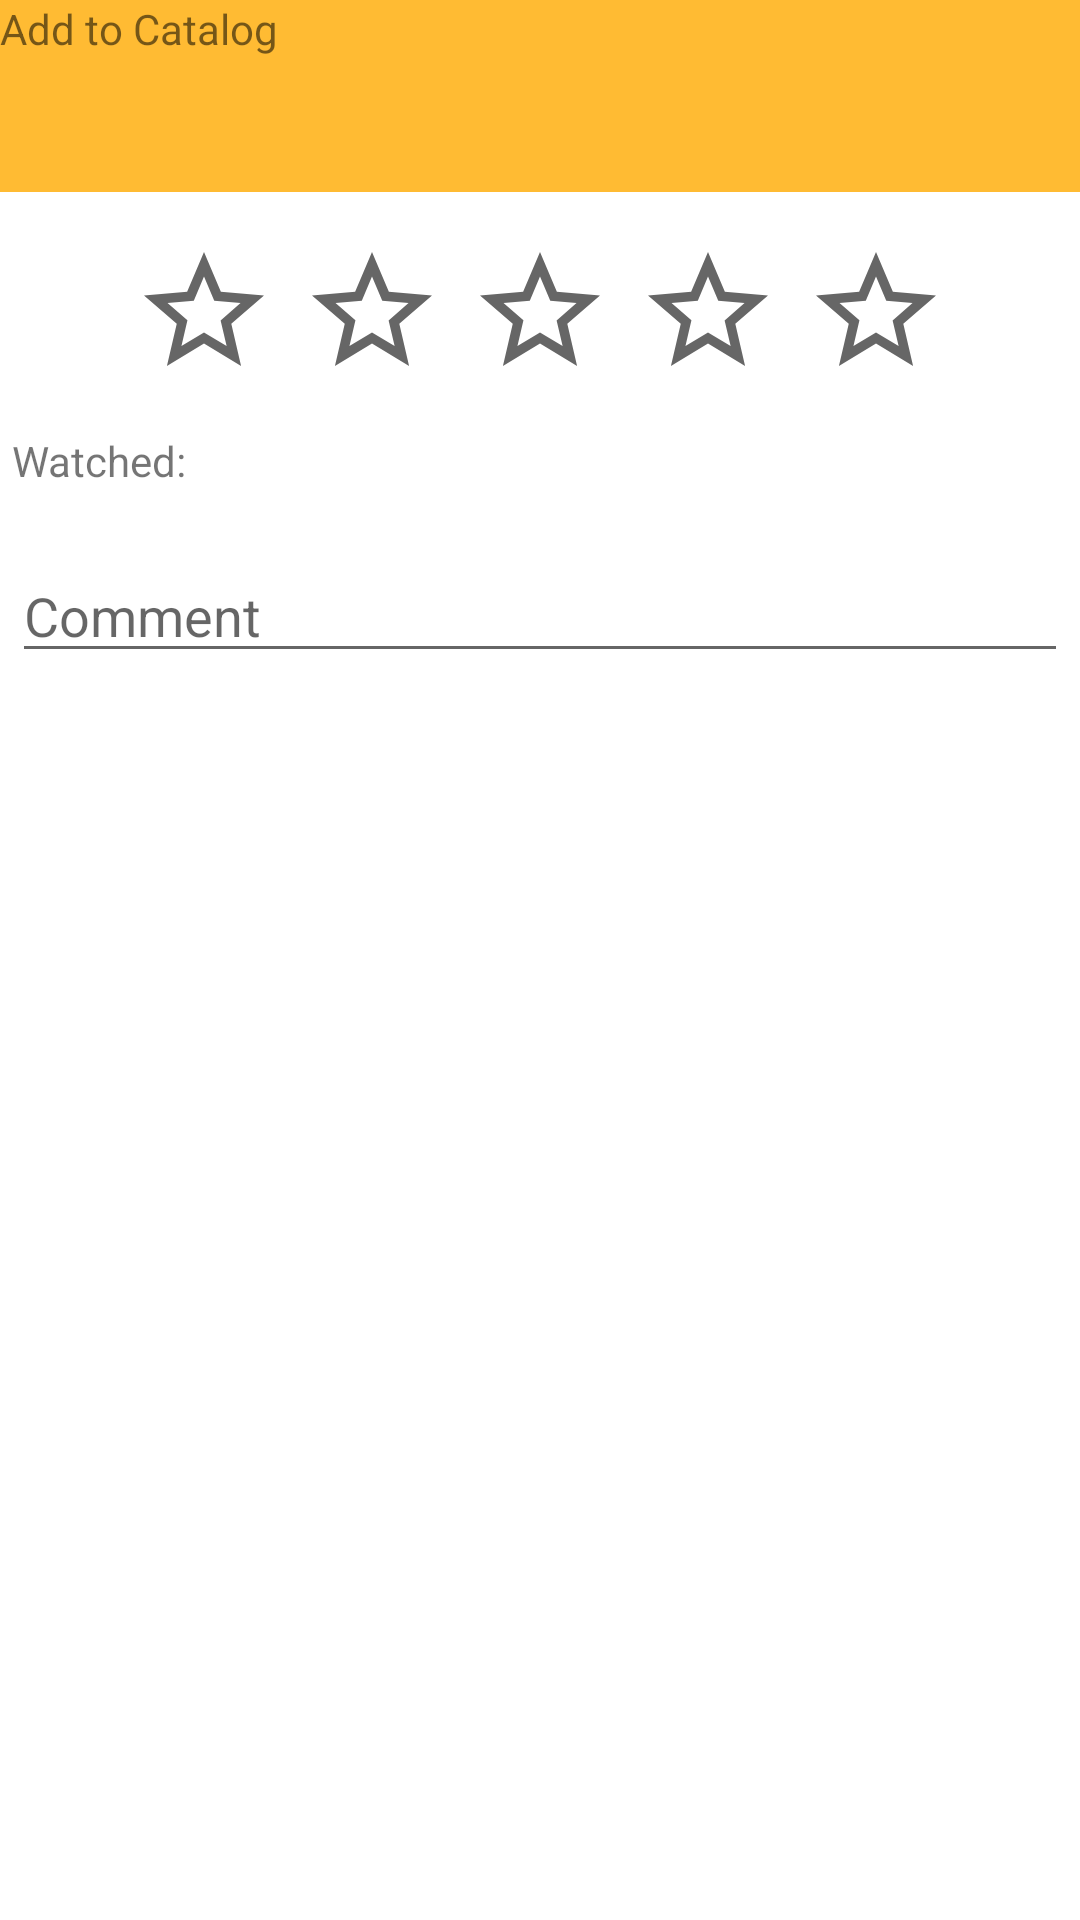

Icons on this 1080w x 1920h Android screen, each with its box as (x1, y1, x2, y2):
star border: (144, 252, 264, 366), (312, 252, 432, 366), (480, 252, 600, 366), (648, 252, 768, 366), (816, 252, 936, 366)
